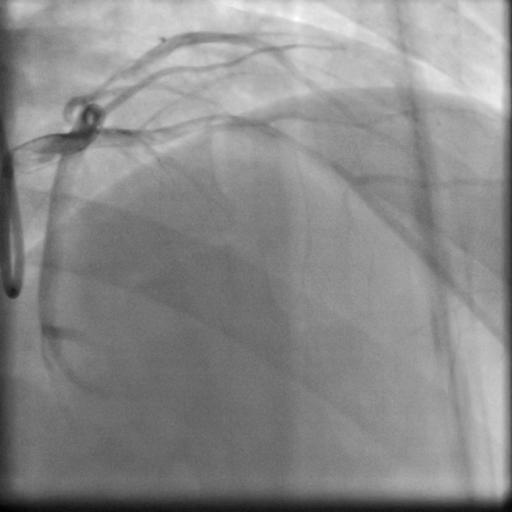Stenosis: (82, 67, 135, 101)
